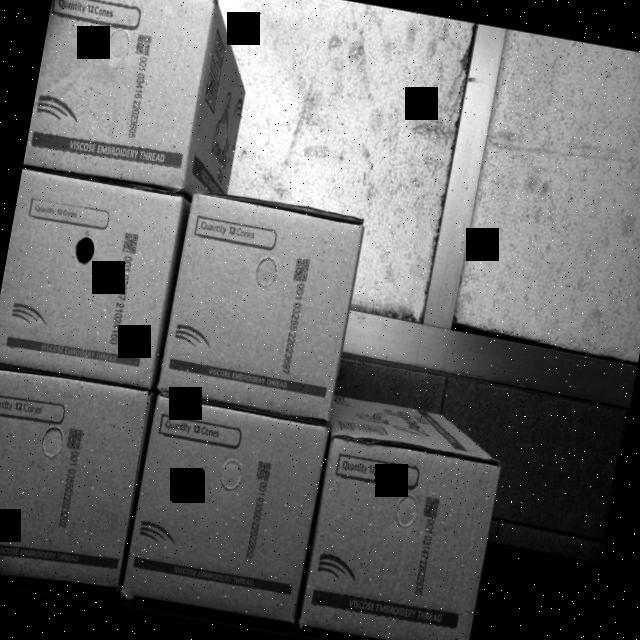box: (123, 390, 331, 626), (158, 194, 367, 428), (296, 426, 506, 640), (0, 175, 186, 394), (22, 0, 216, 197), (0, 372, 152, 598)
